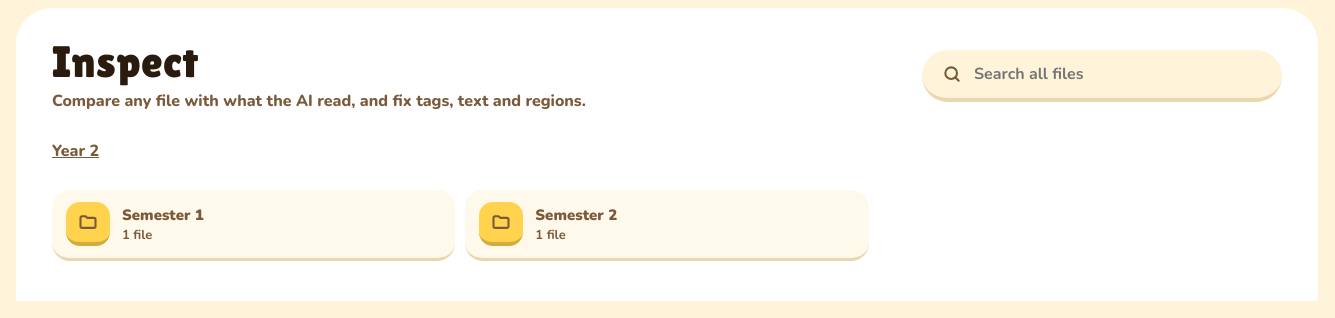
Test: Inspect folder tree › searches every file wherever it sits
Expected: the button "Semester 1 1 file" is shown, [52, 190, 455, 261]
Type "final" into the search field named "Filter files" at point(1117, 74), box [972, 62, 1262, 86]
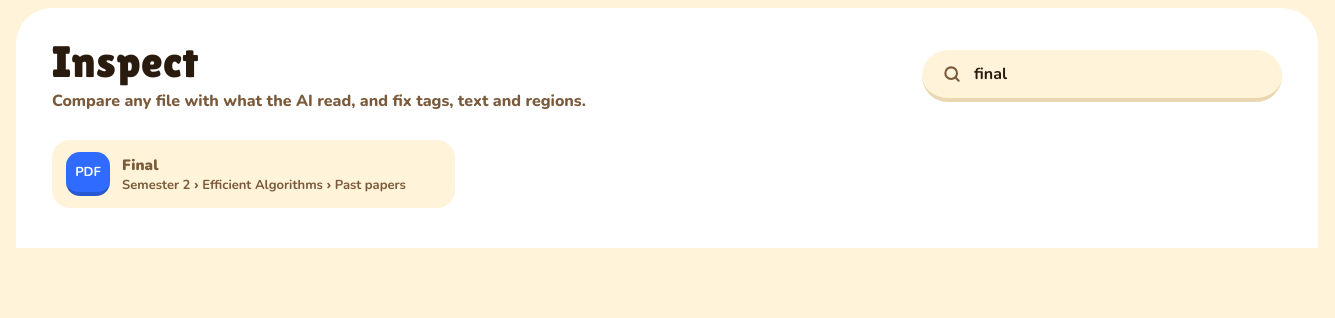
Now the link "PDF Final Semester 2 › Efficient Algorithms › Past papers" is shown, box [52, 140, 455, 208]
